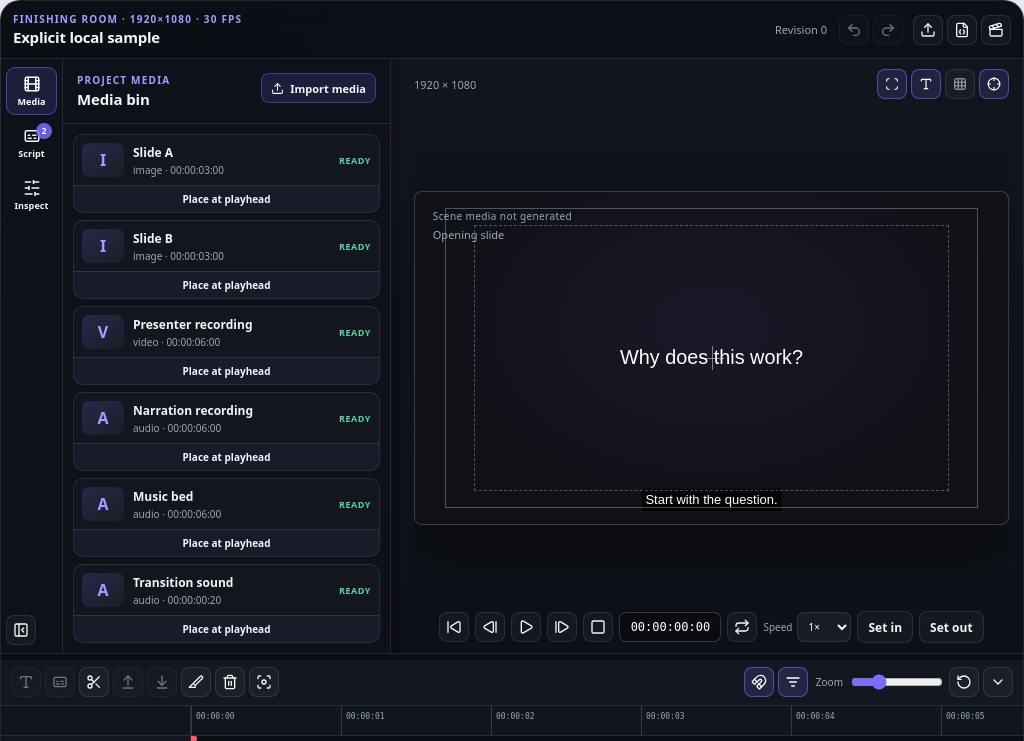
Test: AdvancedVideoEditor › shows a failed document save and allows a retry
Click the button named "Export OTIO" at (996, 30), box [981,14,1011,44]
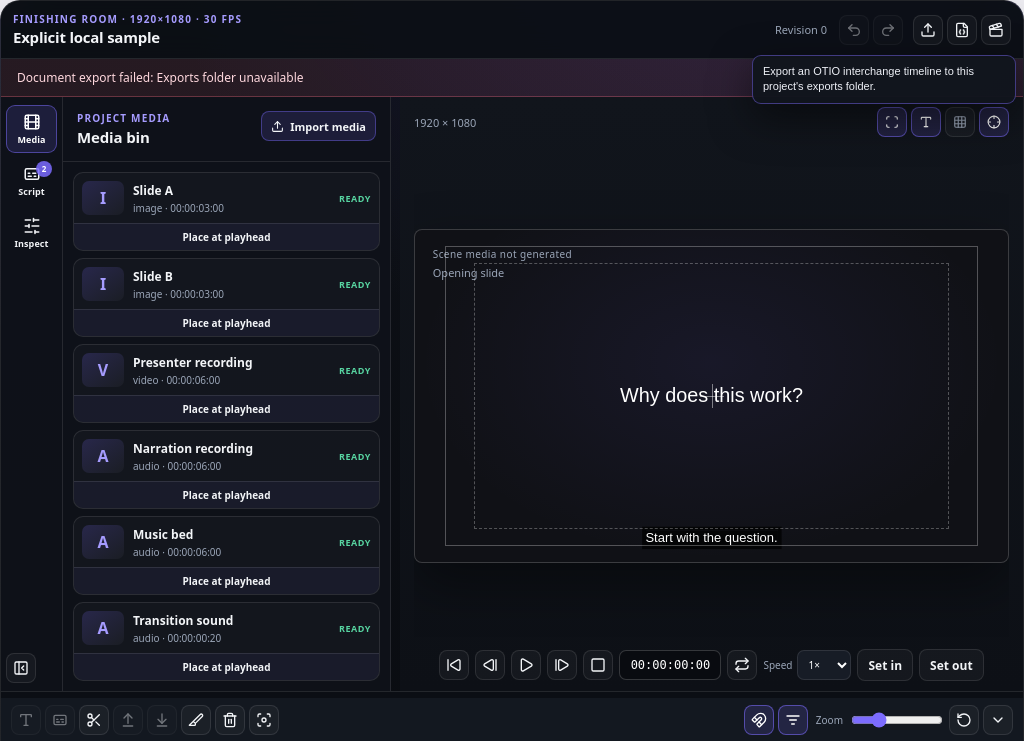
expect the message shows "Exports folder unavailable": met, box [17,69,304,86]
Click the button named "Export OTIO" at (996, 30), box [981,14,1011,44]
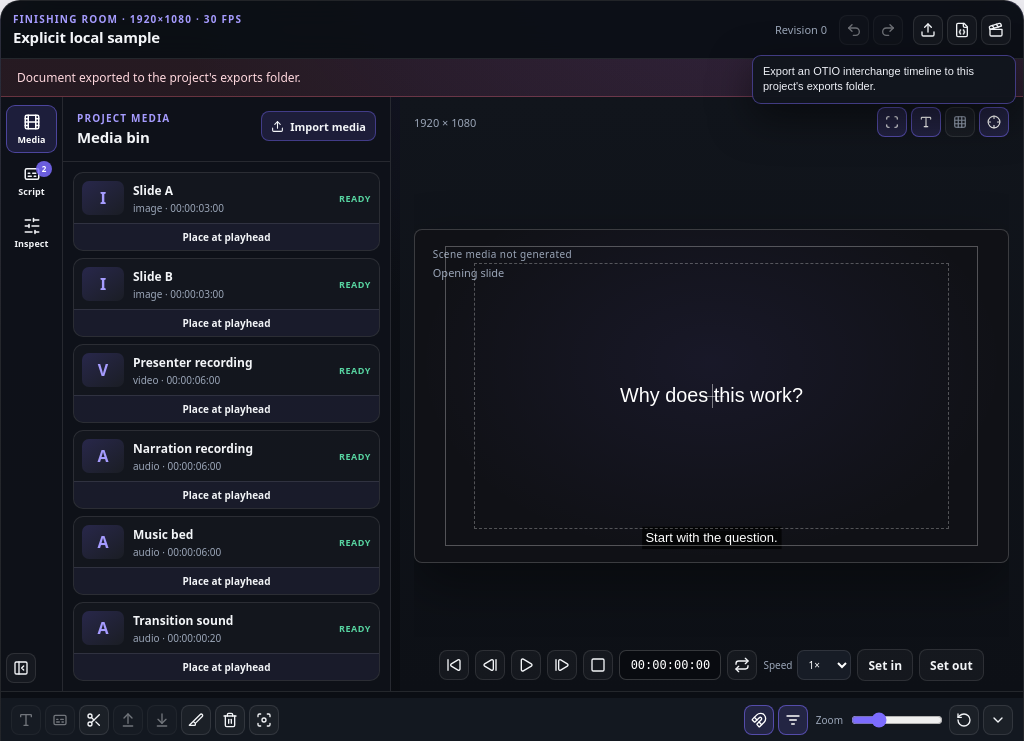
expect the text "Document exported to the project's exports folder." is shown: met, box [1,59,1023,97]
